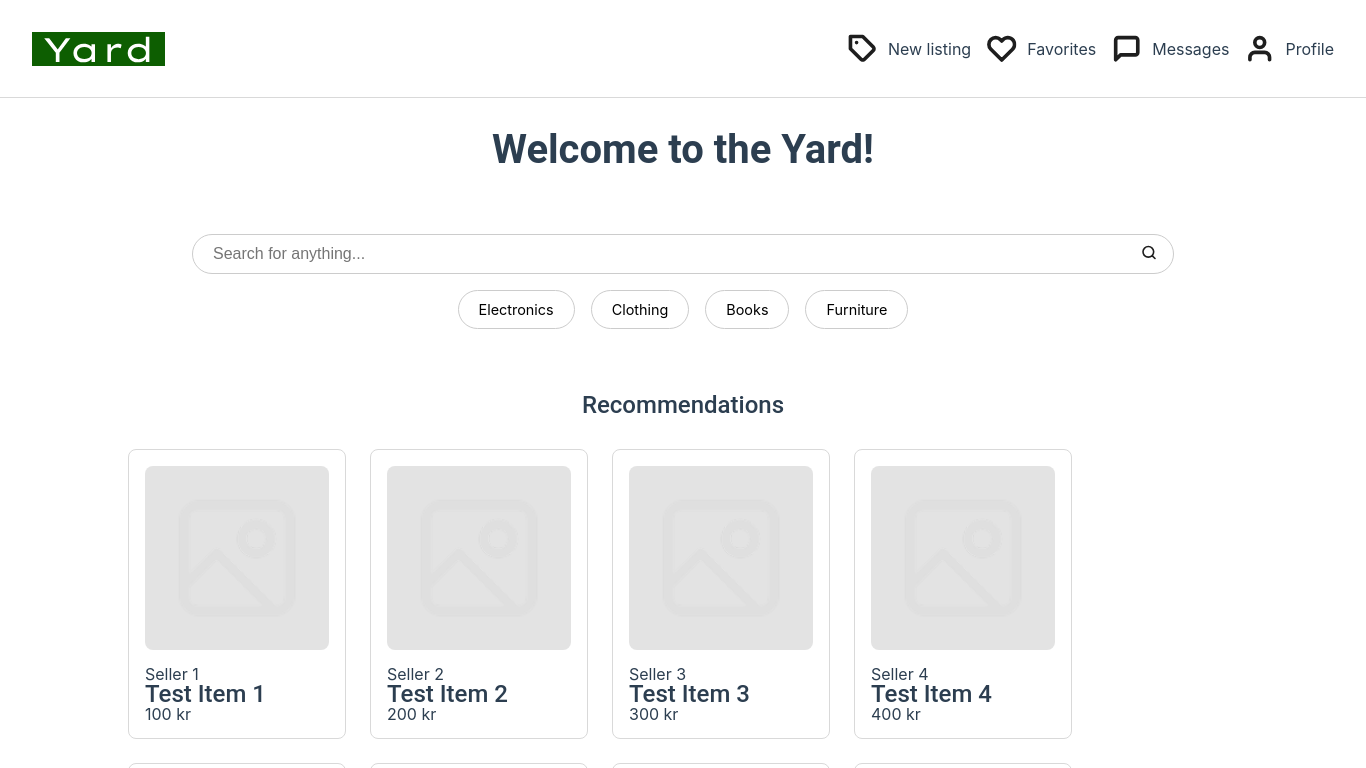
Scenario: Home View › maintains scroll position during navigation
Note: Click a category
Click the button "Electronics". click: (517, 310)
box: left=458, top=290, right=575, bottom=329
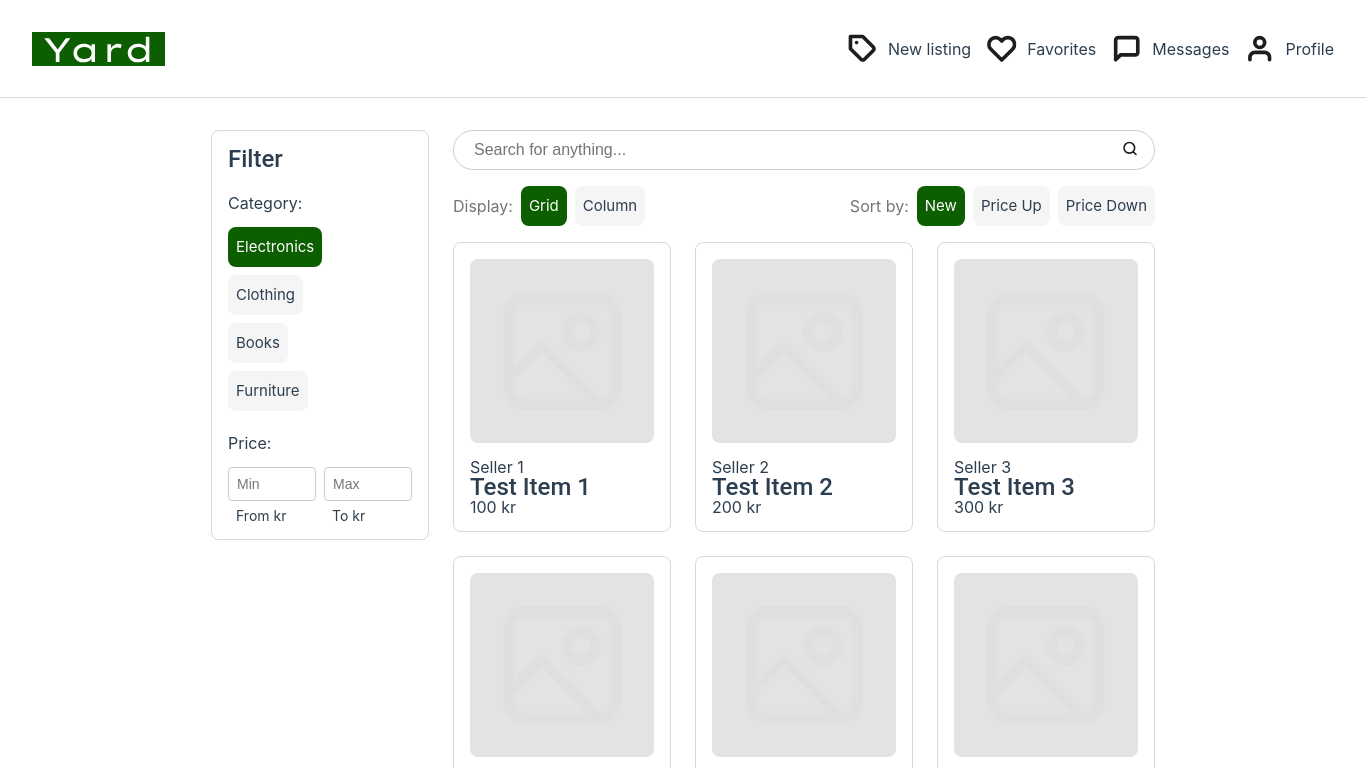
Go "back"
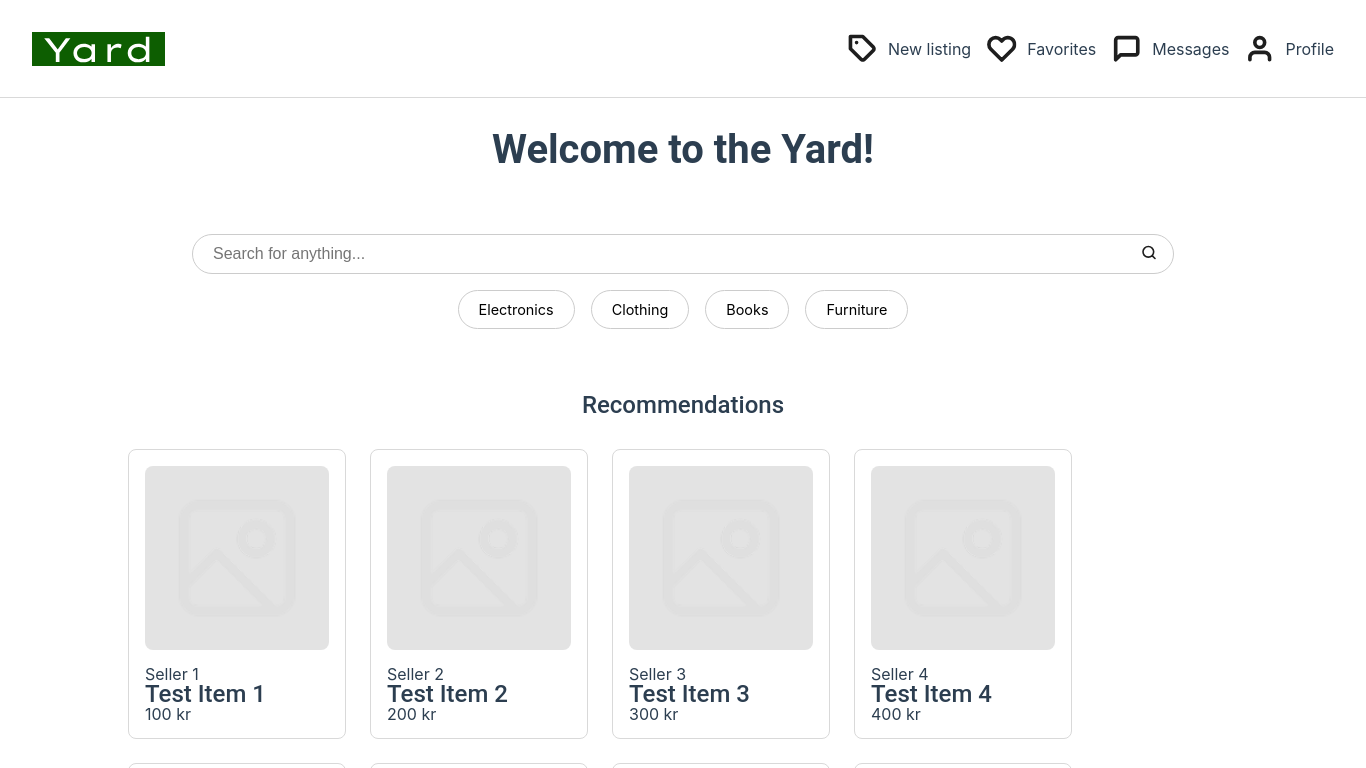
Expected: the heading "Welcome to the Yard!" is shown, left=492, top=130, right=874, bottom=170
